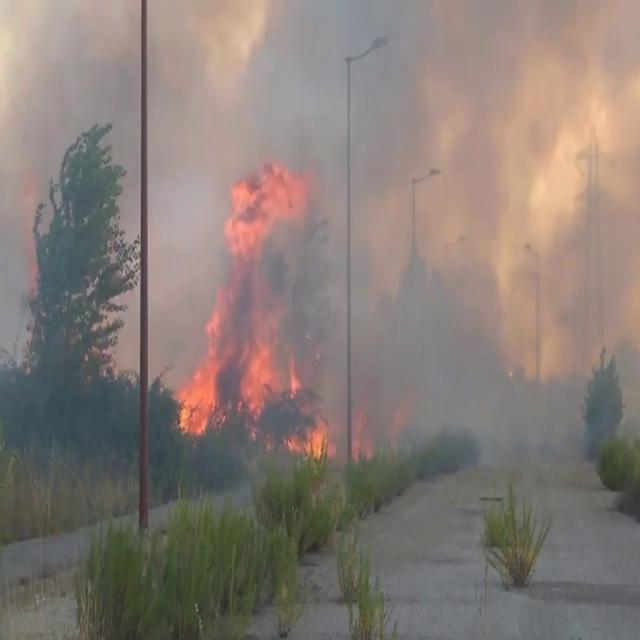Fire: (178, 152, 326, 480)
Smoke: (390, 0, 640, 449)
